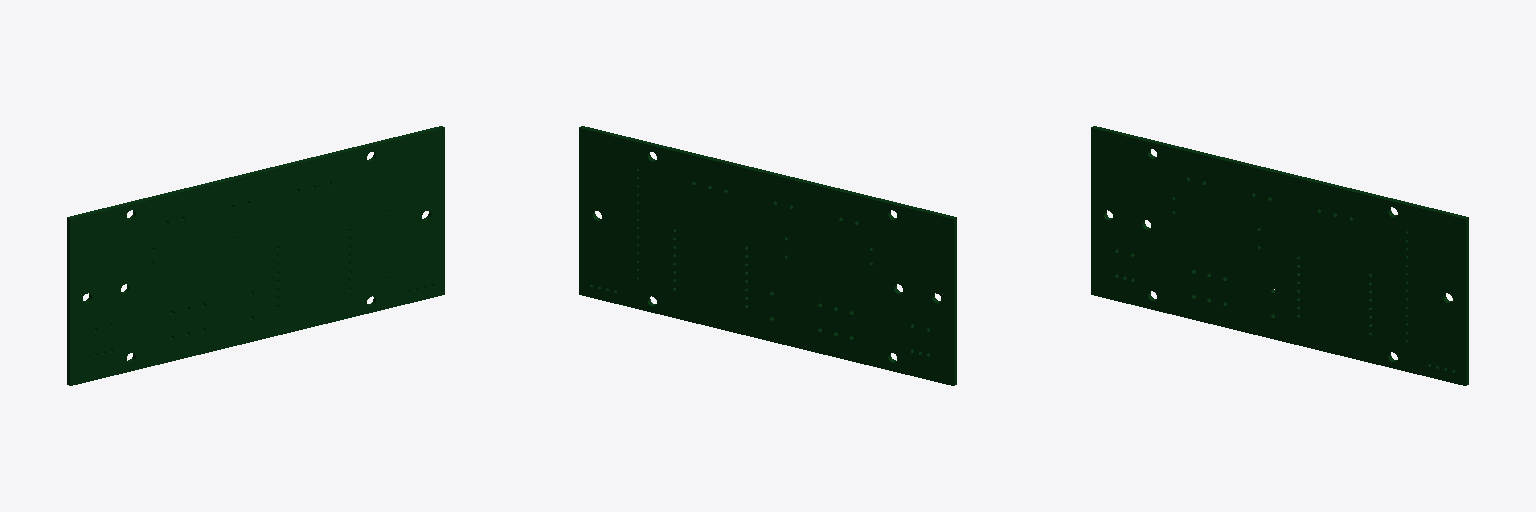
The model's file is THermostat.obj.
The picture shows the model from 3 angles: view 1: azimuth 30°, elevation 25°; view 2: azimuth 150°, elevation 25°; view 3: azimuth 330°, elevation 25°; orthographic projection.
Parts seen in each view (by area): view 1: Shape_IndexedFaceSet; view 2: Shape_IndexedFaceSet; view 3: Shape_IndexedFaceSet.
Boxes of the visible parts, x1,y1,x2,y2 form: Shape_IndexedFaceSet: [67, 126, 444, 385]; Shape_IndexedFaceSet: [579, 126, 956, 385]; Shape_IndexedFaceSet: [1091, 126, 1468, 385].
Bounding box in the file's own units: 119 × 50.8 × 1.57.